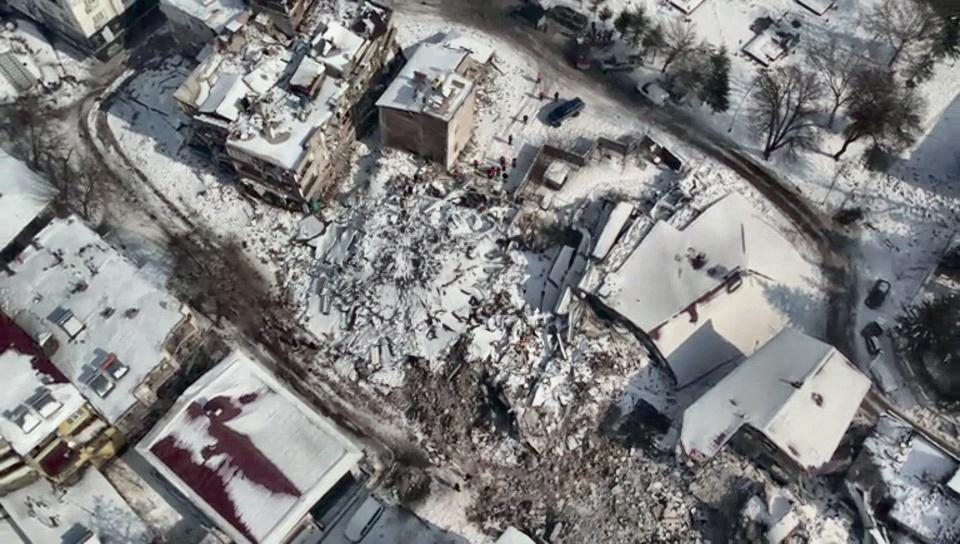kapali: (204, 256, 706, 543)
